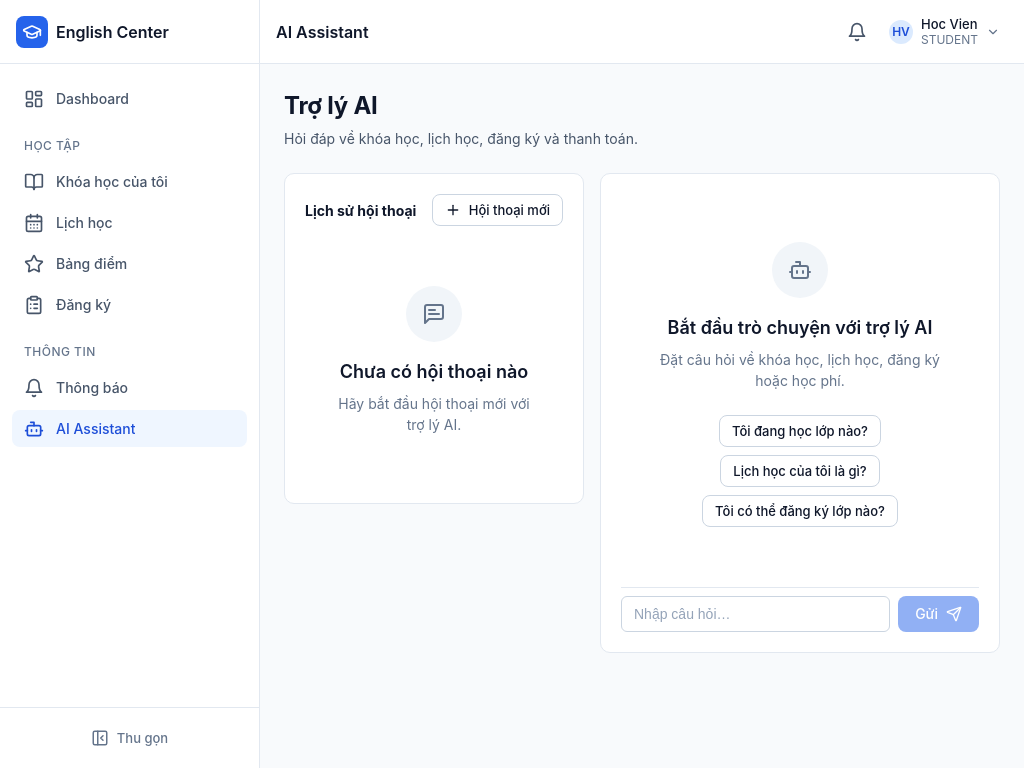
Scenario: AiChatPage › sends a message and renders the assistant reply
The image size is (1024, 768).
Expected: the heading "Chưa có hội thoại nào" is shown, top-left (340, 358), bottom-right (528, 385)
Type "Lịch học của tôi là gì?" into the field named "Nhập câu hỏi cho trợ lý AI" at (756, 614), box top-left (621, 596), bottom-right (890, 632)
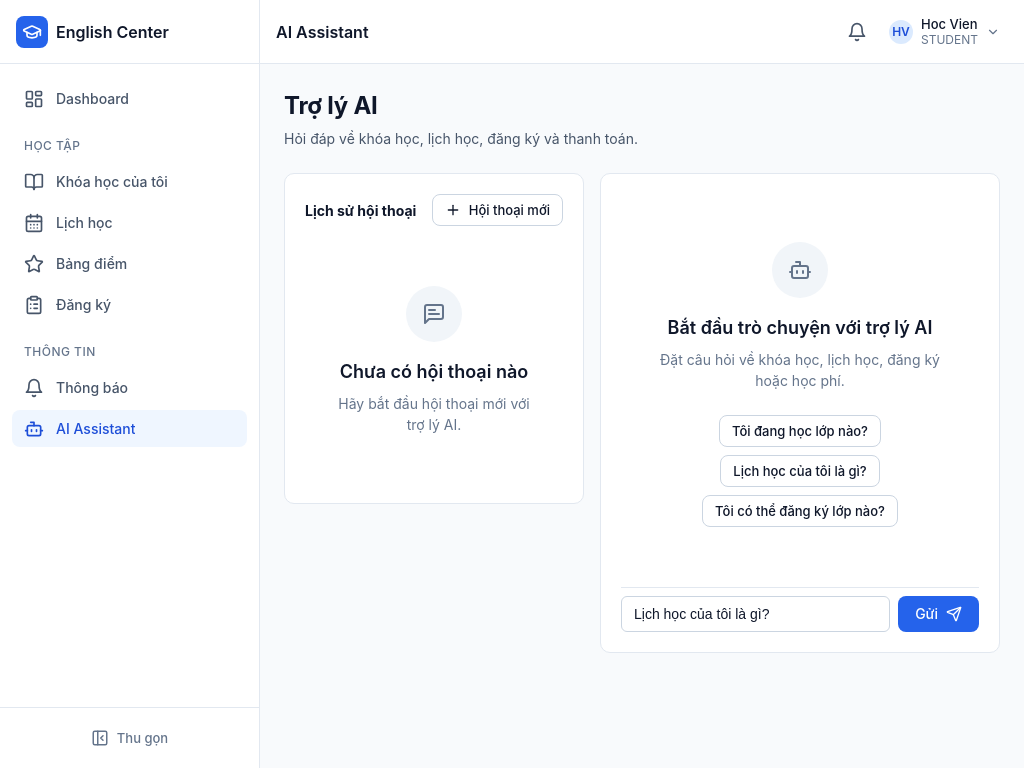
Click the button "Gửi" at (939, 614), box top-left (898, 596), bottom-right (979, 632)
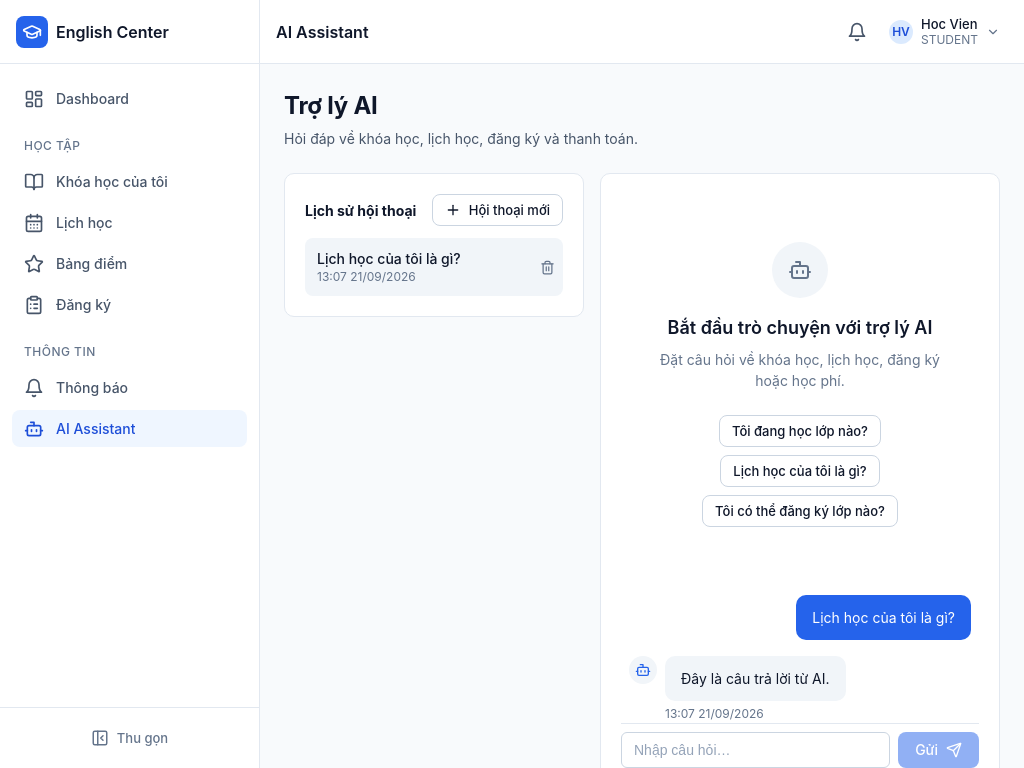
Result: the text "Đây là câu trả lời từ AI." is shown at top-left (665, 656), bottom-right (846, 701)
Result: the text "Lịch học của tôi là gì?" below "Bắt đầu trò chuyện với trợ lý AI" is shown at top-left (812, 609), bottom-right (955, 626)
